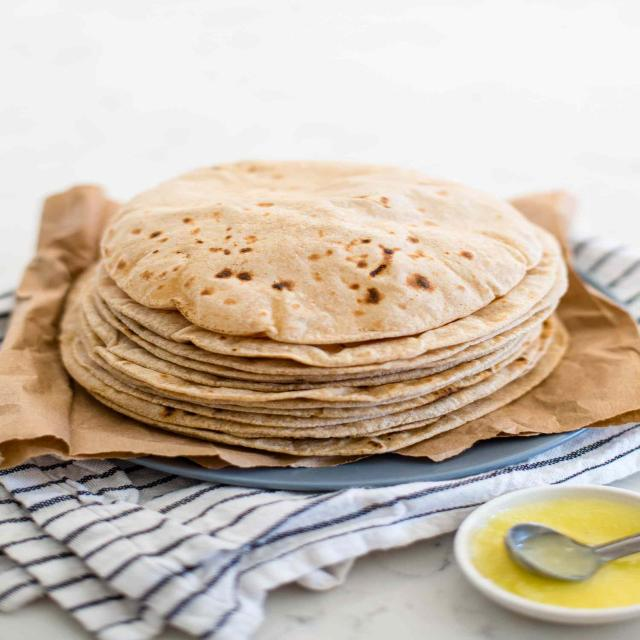chapathi: (82, 143, 562, 330)
